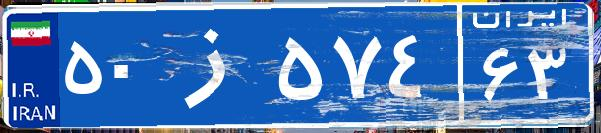0: (110, 28, 158, 105)
3: (525, 38, 570, 115)
4: (385, 28, 445, 110)
5: (273, 28, 330, 110), (57, 26, 110, 107)
6: (475, 38, 525, 113)
7: (330, 28, 385, 110)
ز: (158, 15, 273, 115)
